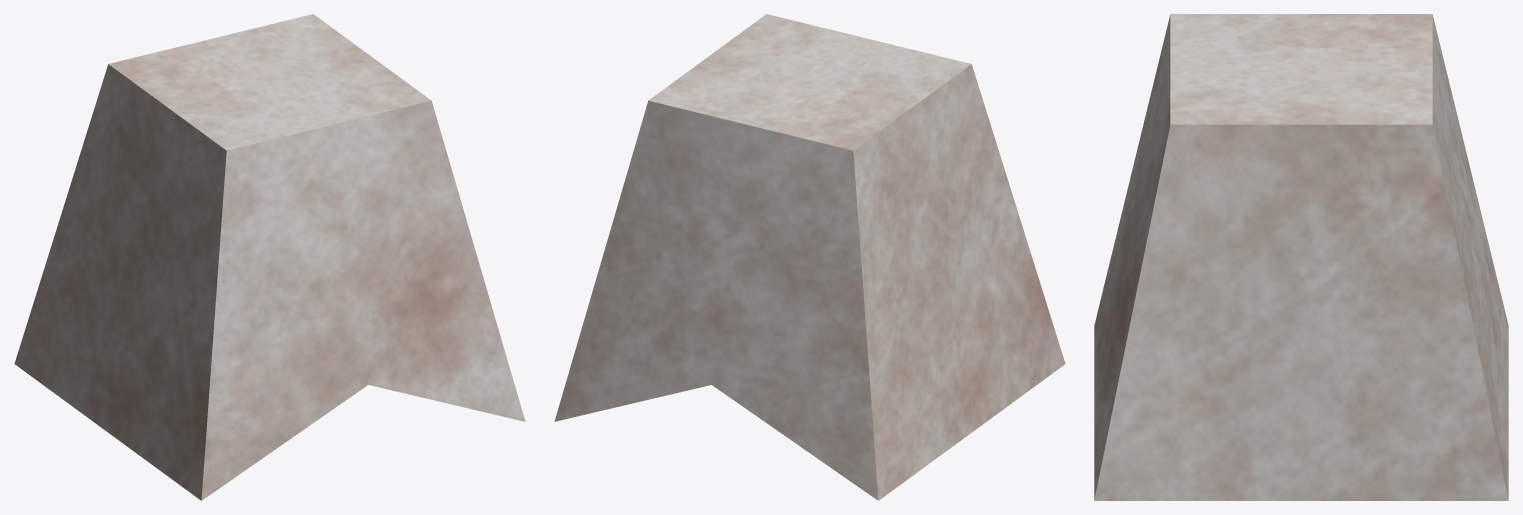
The model's file is CrossBlock.fbx.
3 renders of one model, left to right at view 1: azimuth 30°, elevation 25°; view 2: azimuth 150°, elevation 25°; view 3: azimuth 270°, elevation 25°, orthographic. The views are drawn at different scales.
Parts seen in each view (by area): view 1: CrossBlock; view 2: CrossBlock; view 3: CrossBlock.
Part boxes in pixels (x1=…): CrossBlock: x1=14, y1=14, x2=525, y2=500; CrossBlock: x1=554, y1=14, x2=1065, y2=500; CrossBlock: x1=1094, y1=14, x2=1508, y2=500.
Size of the model in its own units: 60.47 by 55.39 by 60.47.
1 material, 1 textured.
